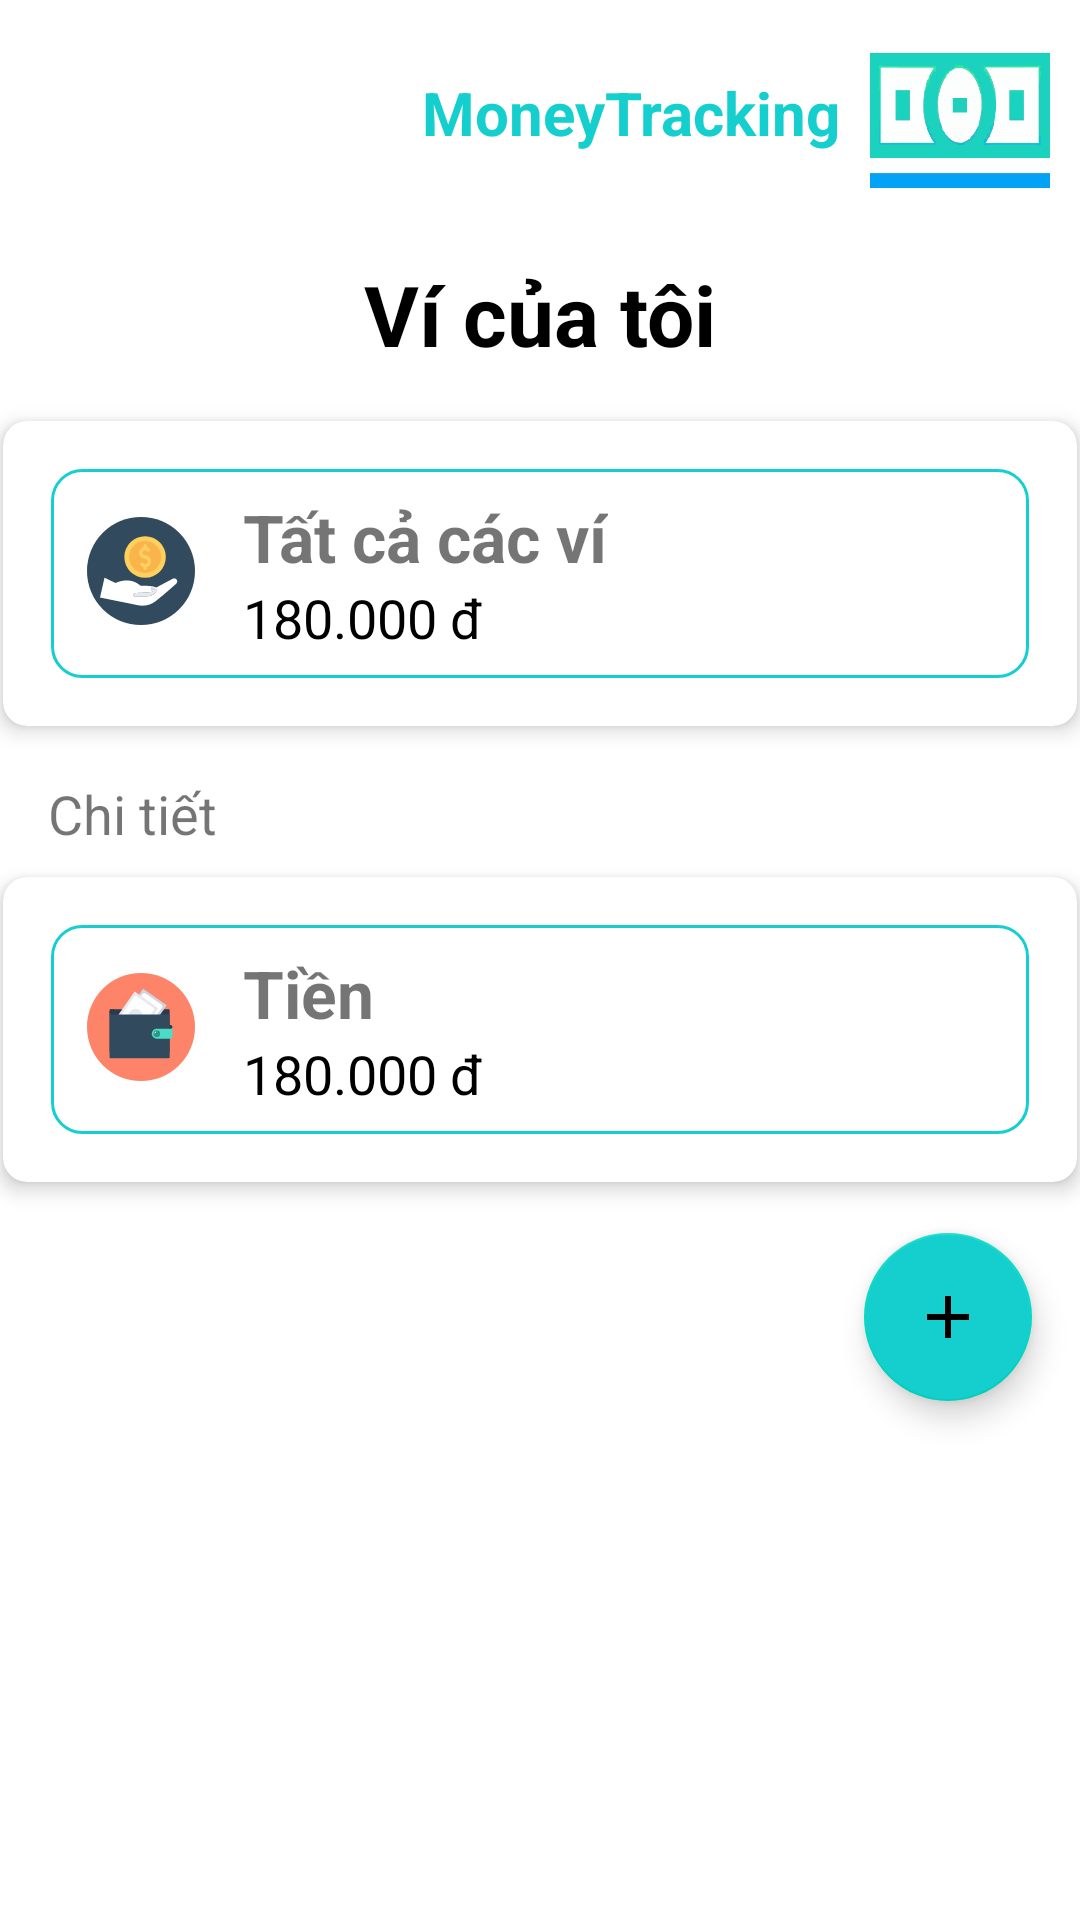

Icons on this 1080 x 1920 Android screen, each with its box as (x1,y1,x2,y2):
add: (864,1233,1032,1401)
wallet: (87,973,195,1081)
